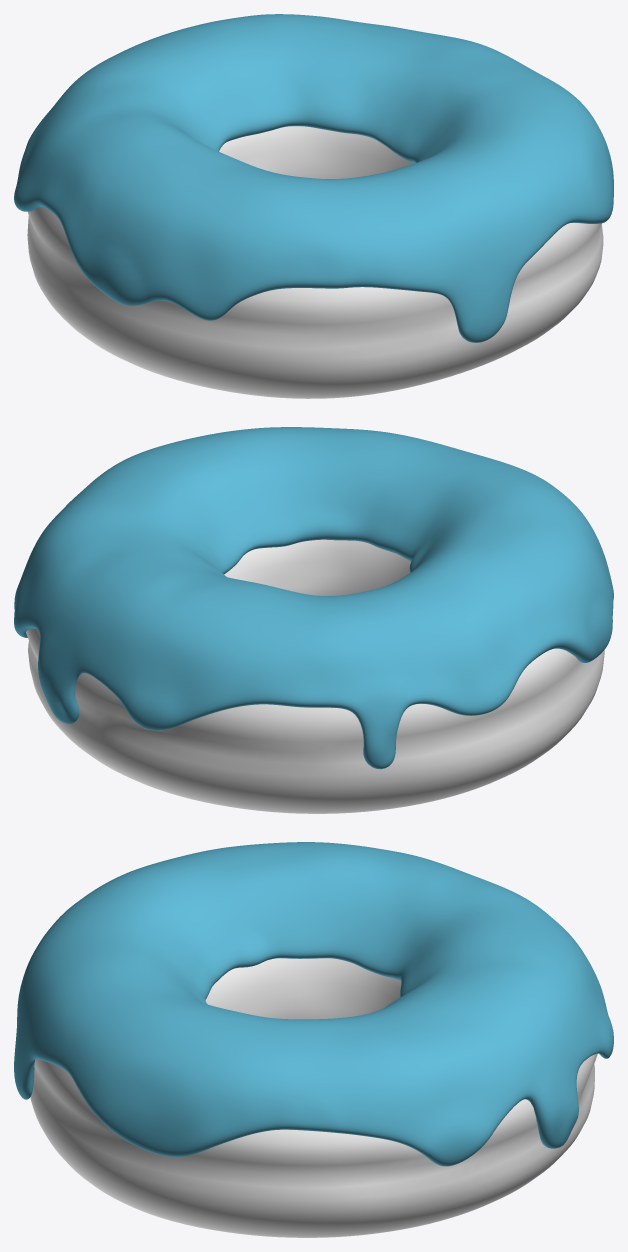
Rendered from Donut.gltf.
The picture shows the model from 3 angles, top to bottom: view 1: azimuth 30°, elevation 25°; view 2: azimuth 150°, elevation 25°; view 3: azimuth 270°, elevation 25°; orthographic projection.
Visible parts, largest first — view 1: Icing, Doughnut; view 2: Icing, Doughnut; view 3: Icing, Doughnut.
Boxes of the visible parts, x1,y1,x2,y2 form: Icing: (14,14,613,342); Doughnut: (27,126,603,398); Icing: (14,427,613,769); Doughnut: (26,539,604,813); Icing: (14,842,613,1166); Doughnut: (30,958,597,1237).
Bounding box in the file's own units: 0.1453 × 0.0573 × 0.1473.
